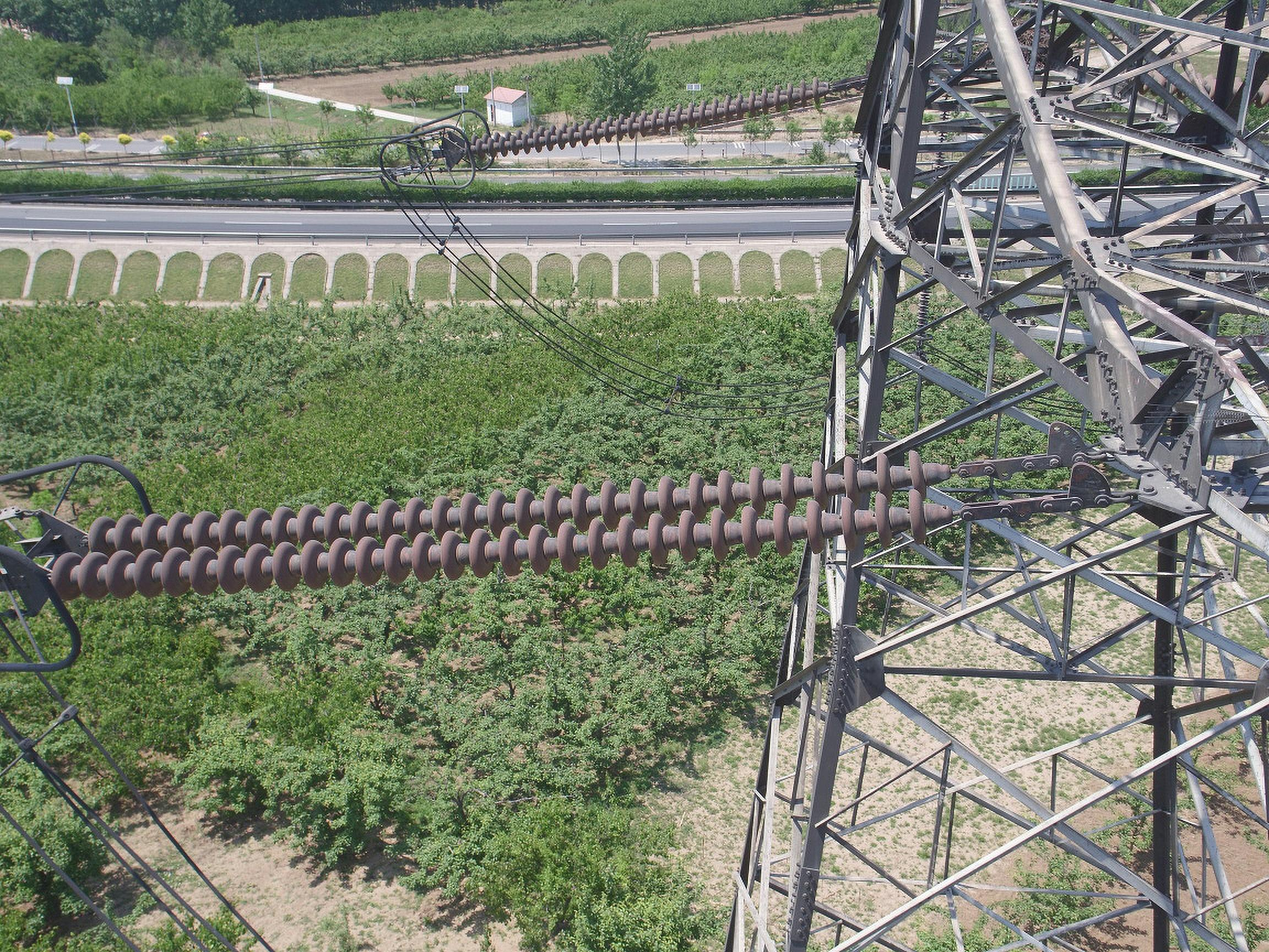insulator: (43, 443, 934, 608), (462, 75, 823, 165), (911, 268, 936, 342)
